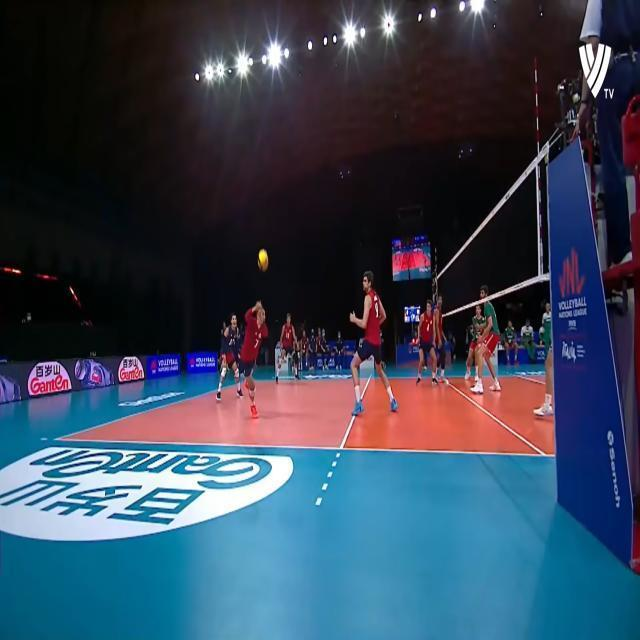volleyball: (258, 250, 268, 272)
